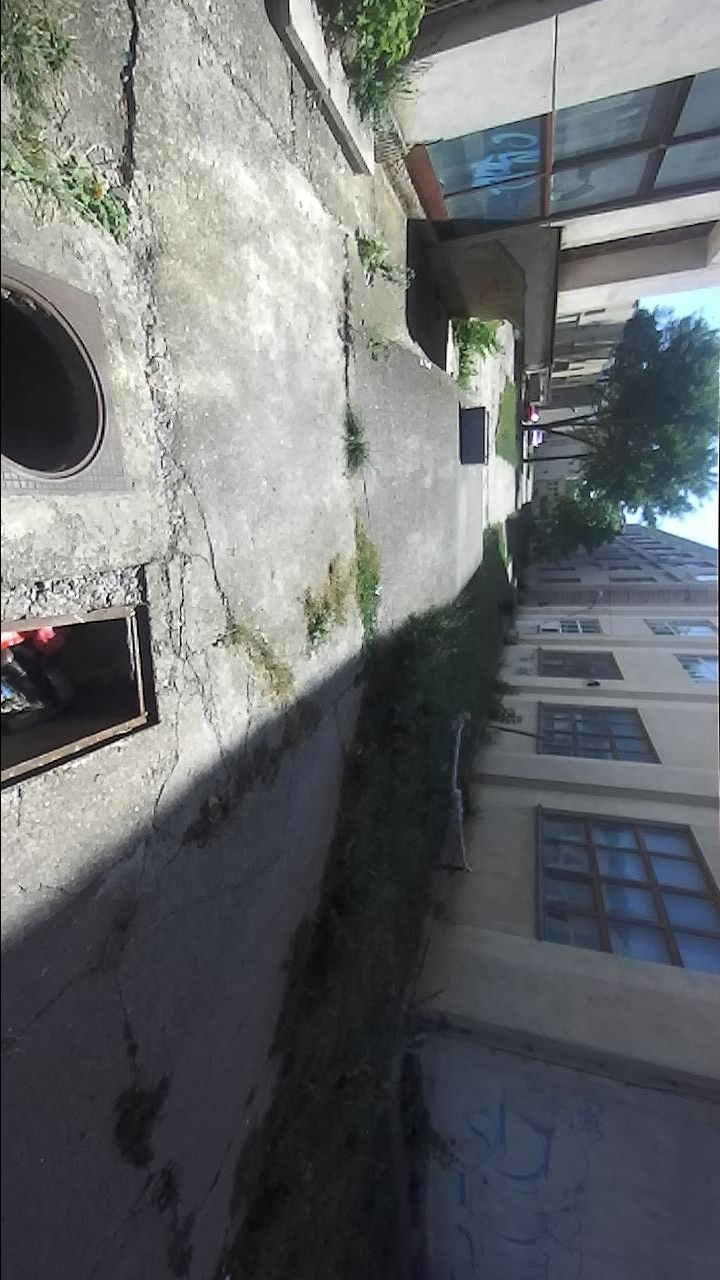drain: (1, 567, 163, 781), (1, 273, 107, 478)
